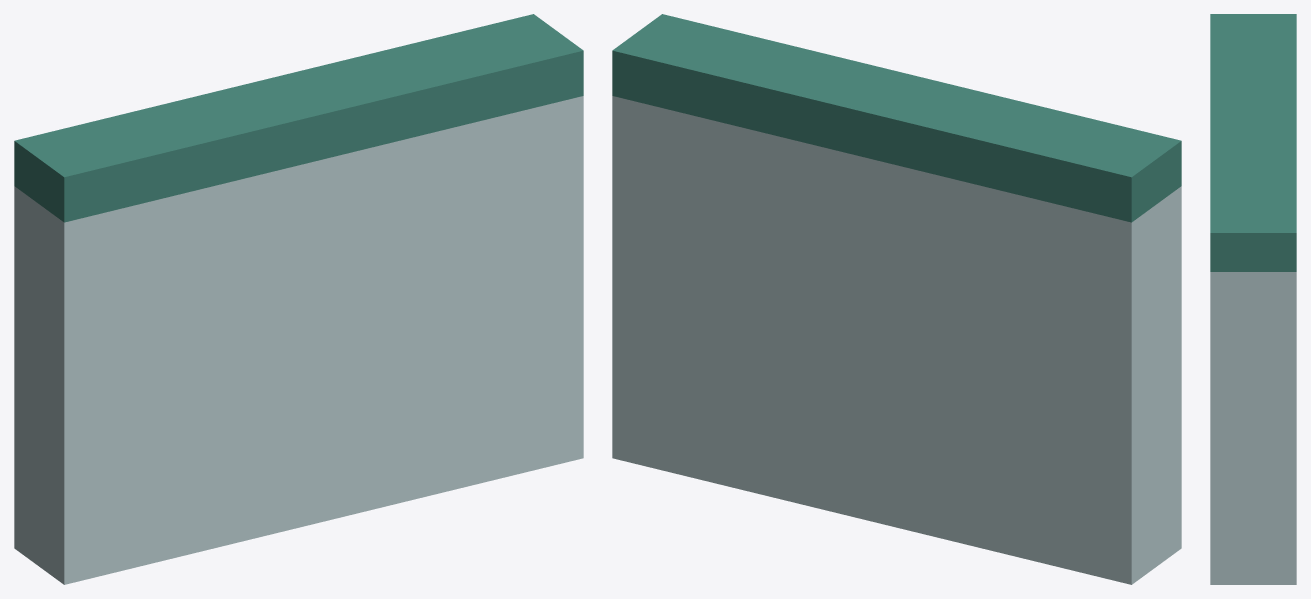
File: Lv2Obsticle1Left.fbx
3 views of the same model, side by side, from view 1: azimuth 30°, elevation 25°; view 2: azimuth 150°, elevation 25°; view 3: azimuth 270°, elevation 25° (orthographic). The views are drawn at different scales.
Visible parts, largest first — view 1: Lv2Obsticle1Left; view 2: Lv2Obsticle1Left; view 3: Lv2Obsticle1Left.
Boxes of the visible parts, bbox=[...] form: Lv2Obsticle1Left: bbox=[14, 14, 583, 584]; Lv2Obsticle1Left: bbox=[612, 14, 1181, 584]; Lv2Obsticle1Left: bbox=[1210, 14, 1296, 584].
Size of the model in its own units: 2400 by 1800 by 400.
